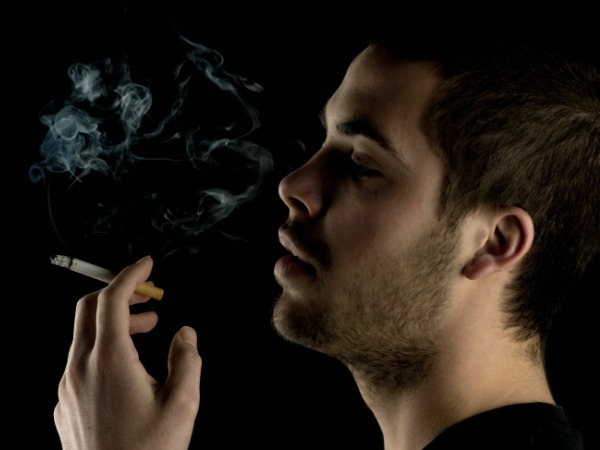cigarette: (44, 250, 164, 301)
